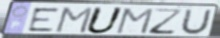E: (26, 7, 61, 33)
M: (113, 7, 156, 36), (53, 7, 95, 35)
U: (84, 6, 126, 35), (178, 8, 214, 36)
Z: (148, 8, 185, 36)
